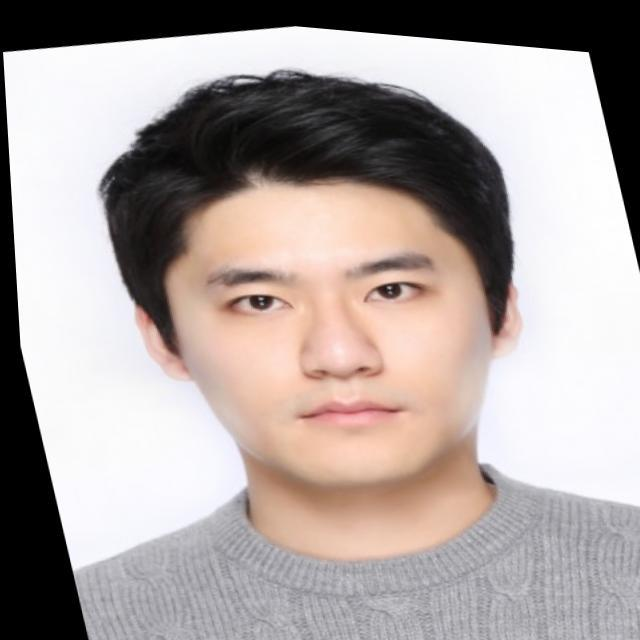Nonhelmet: (89, 41, 522, 487)
